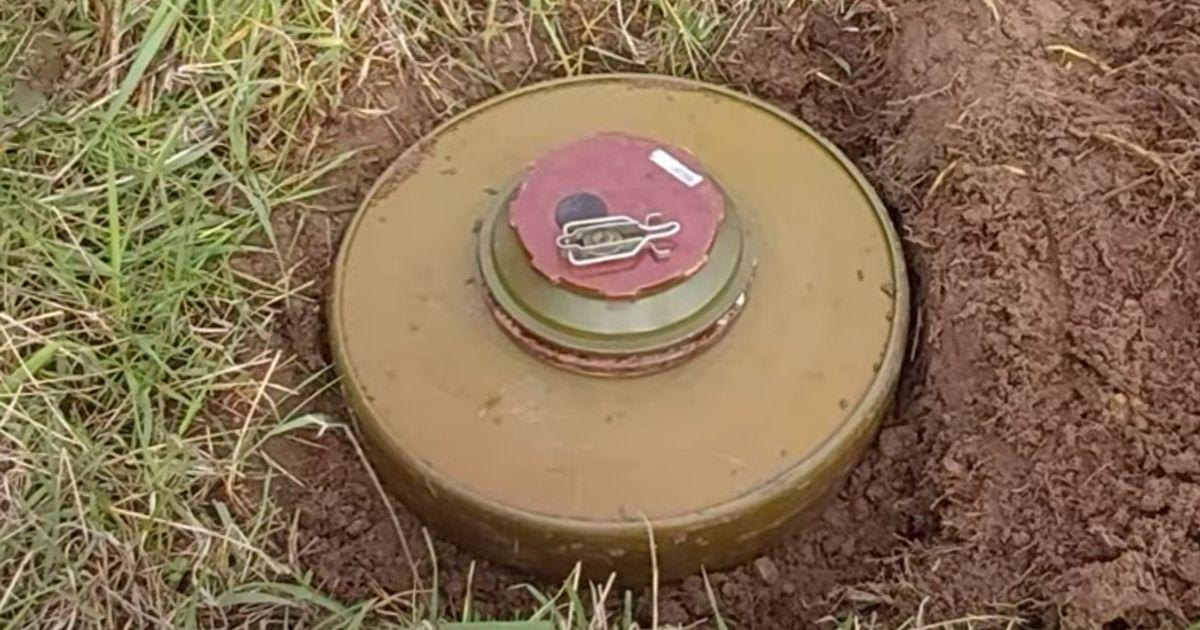TM 62: (330, 66, 915, 588)
